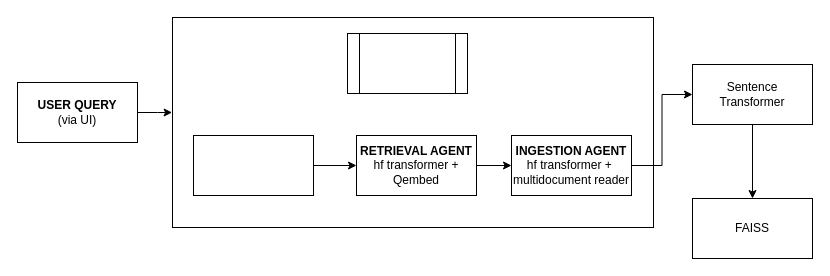
Some shapes in this 830 by 276 pixel diagram are drawn without their labels. The centre of each missing label's shape, as x and y in pixels:
MCP: (x=407, y=63)
RESPONSE AGENT openai + MCP json format: (x=253, y=165)
